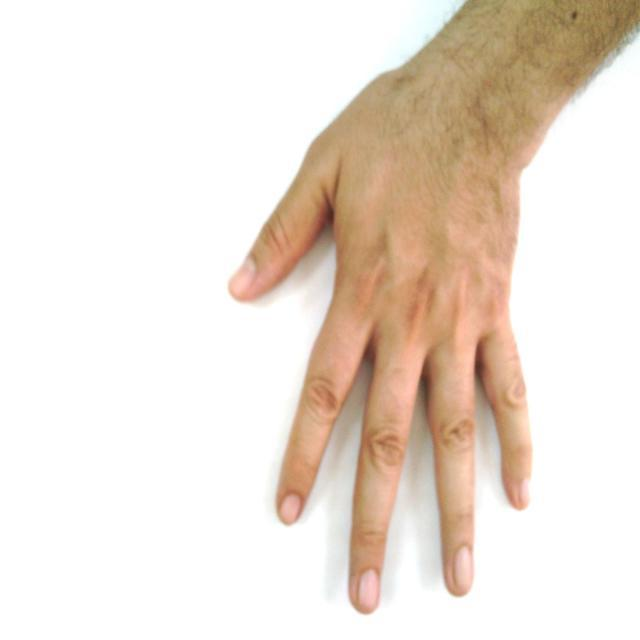Fingernail: (358, 570, 379, 611), (230, 260, 256, 293), (454, 548, 472, 592), (281, 495, 300, 523), (521, 481, 530, 507)
